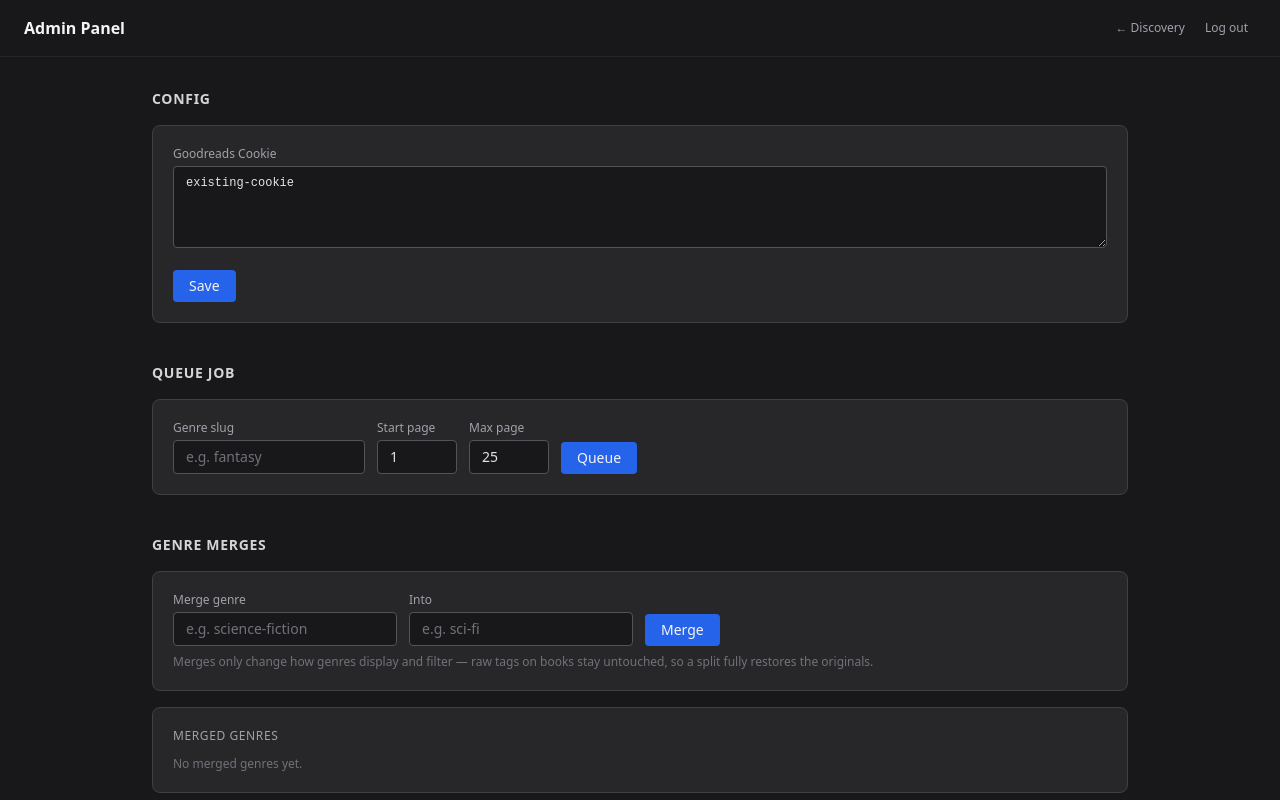
it: AdminPage — content and forms › queues a job with genre, startPage and maxPage from the form
Type "horror" into the field with placeholder "e.g. fantasy" at {"x": 269, "y": 457}, box [173,440,365,474]
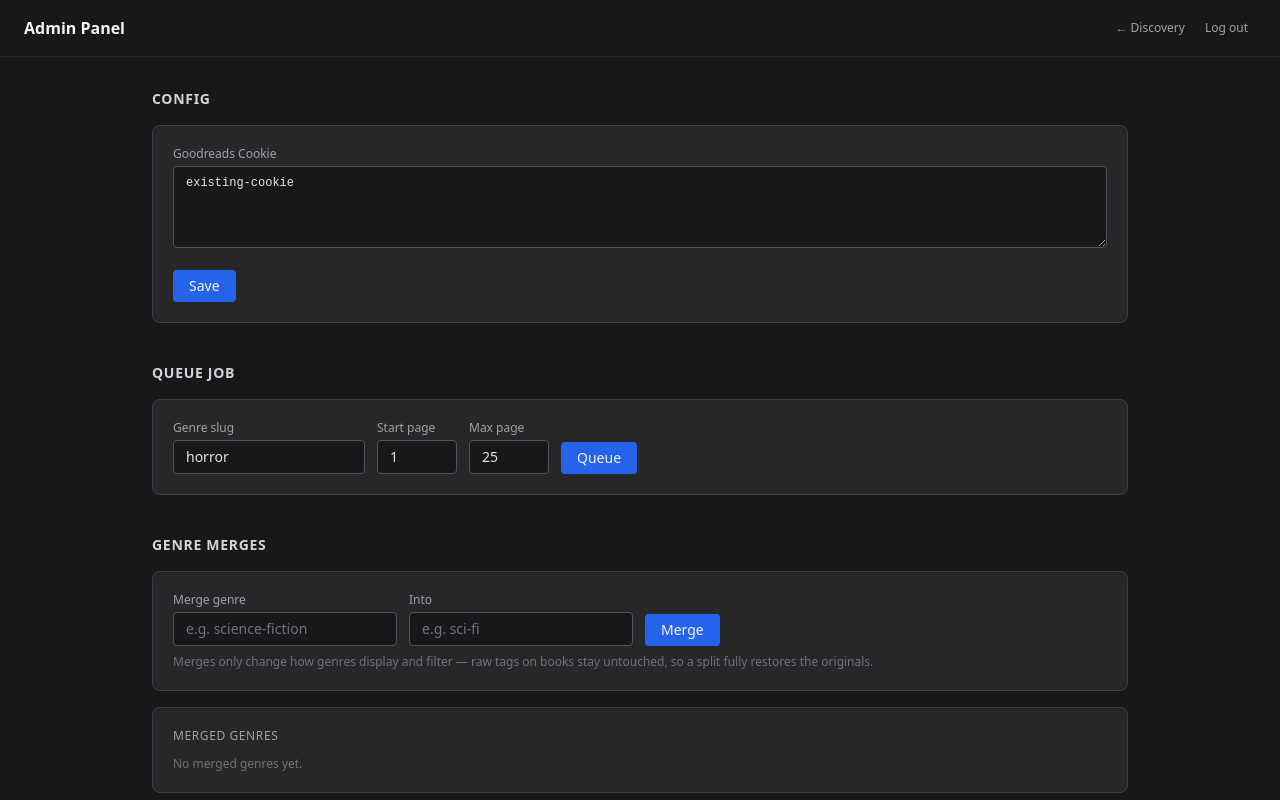
Replace the text in the number field below "Start page" with "2" at {"x": 417, "y": 457}, box [377,440,457,474]
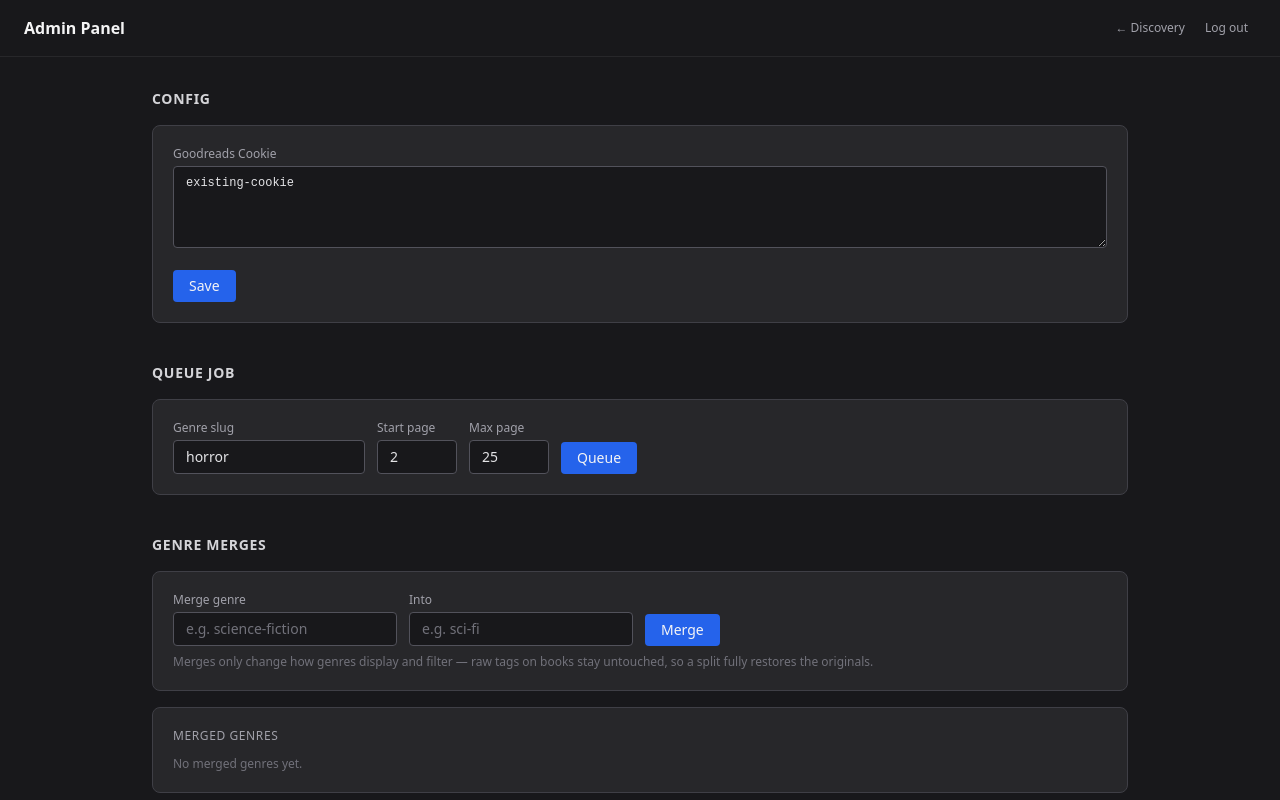
Replace the text in the number field below "Max page" with "9" at {"x": 509, "y": 457}, box [469,440,549,474]
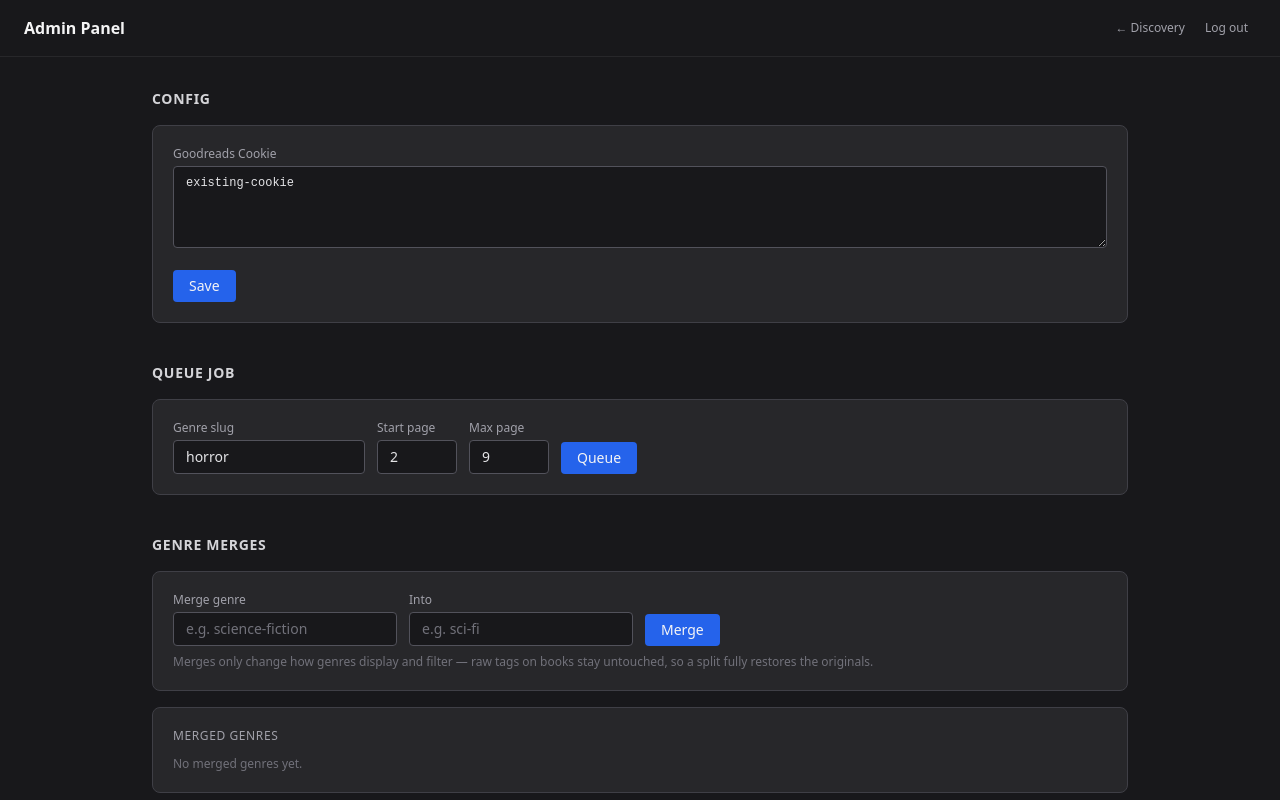
Click the button "Queue" at {"x": 599, "y": 458}, box [561,442,637,474]
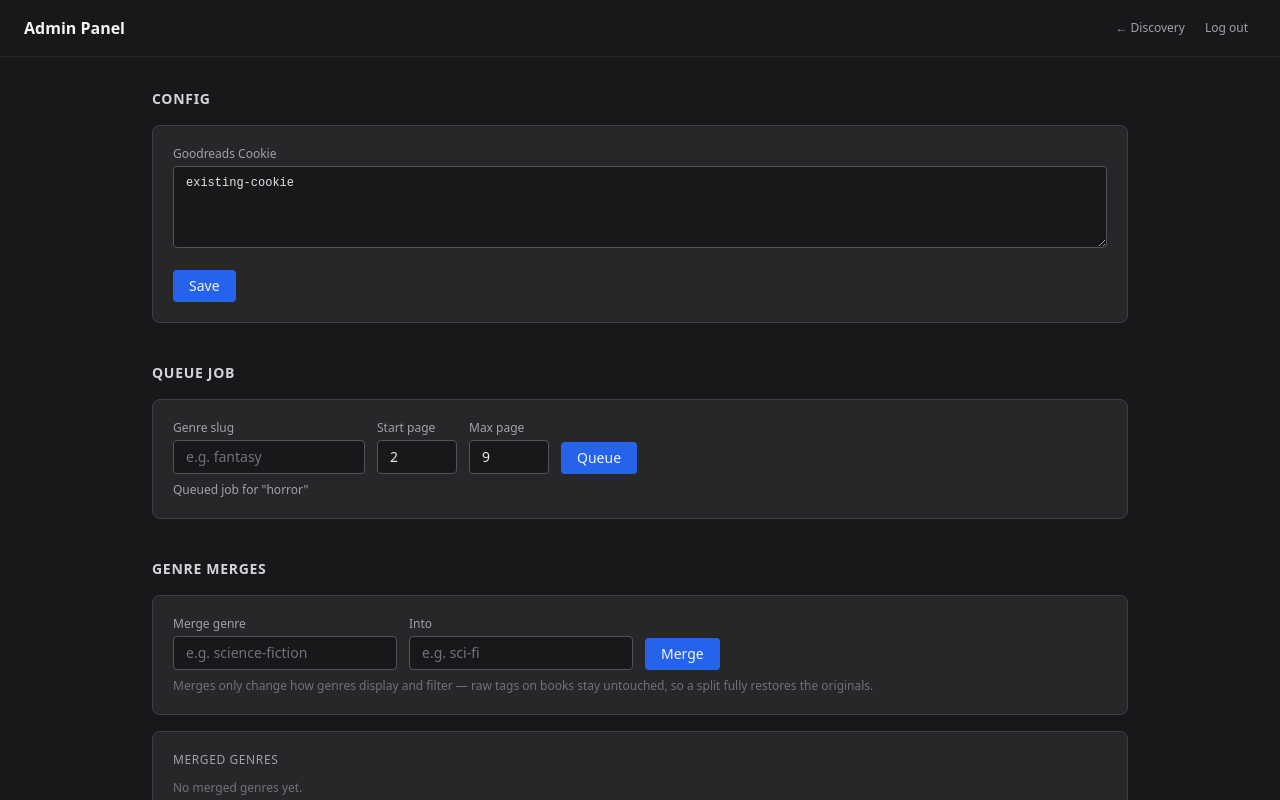
Expected: the text "Queued job for \"horror\"" is shown, [173,481,308,498]
